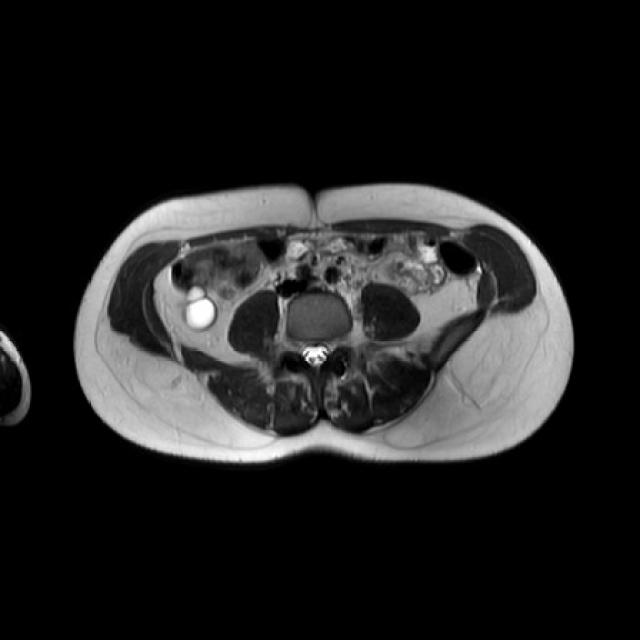sag: (184, 284, 218, 333)
